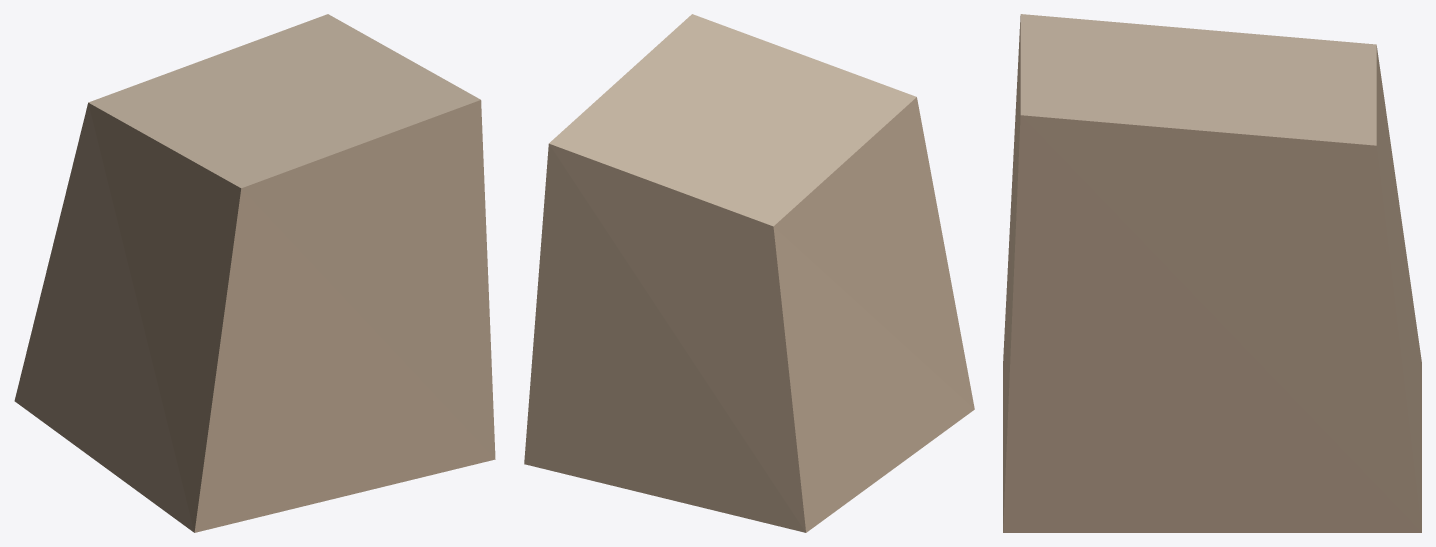
Rendered from block.glb.
3 renders of one model, left to right at view 1: azimuth 30°, elevation 25°; view 2: azimuth 150°, elevation 25°; view 3: azimuth 270°, elevation 25°, orthographic. The views are drawn at different scales.
Visible parts, largest first — view 1: Stone; view 2: Stone; view 3: Stone.
Boxes of the visible parts, <box> form: Stone: <box>14,14,495,532</box>; Stone: <box>524,14,974,532</box>; Stone: <box>1003,14,1421,532</box>.
Bounding box in the file's own units: 0.3907 × 0.4414 × 0.4047.
